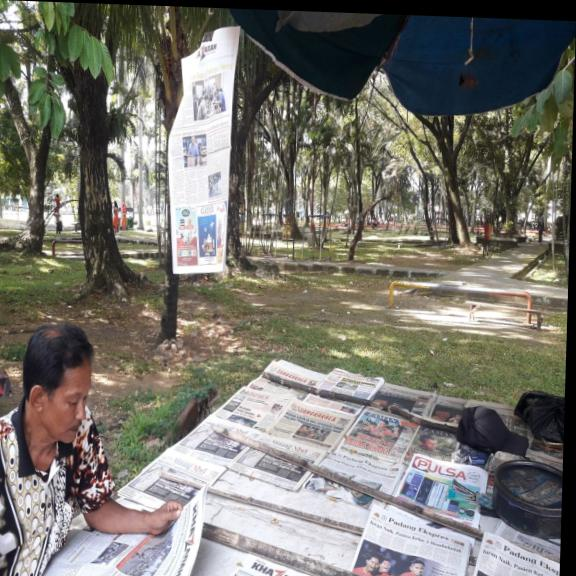Kertas: (159, 31, 246, 284), (345, 499, 480, 576)
